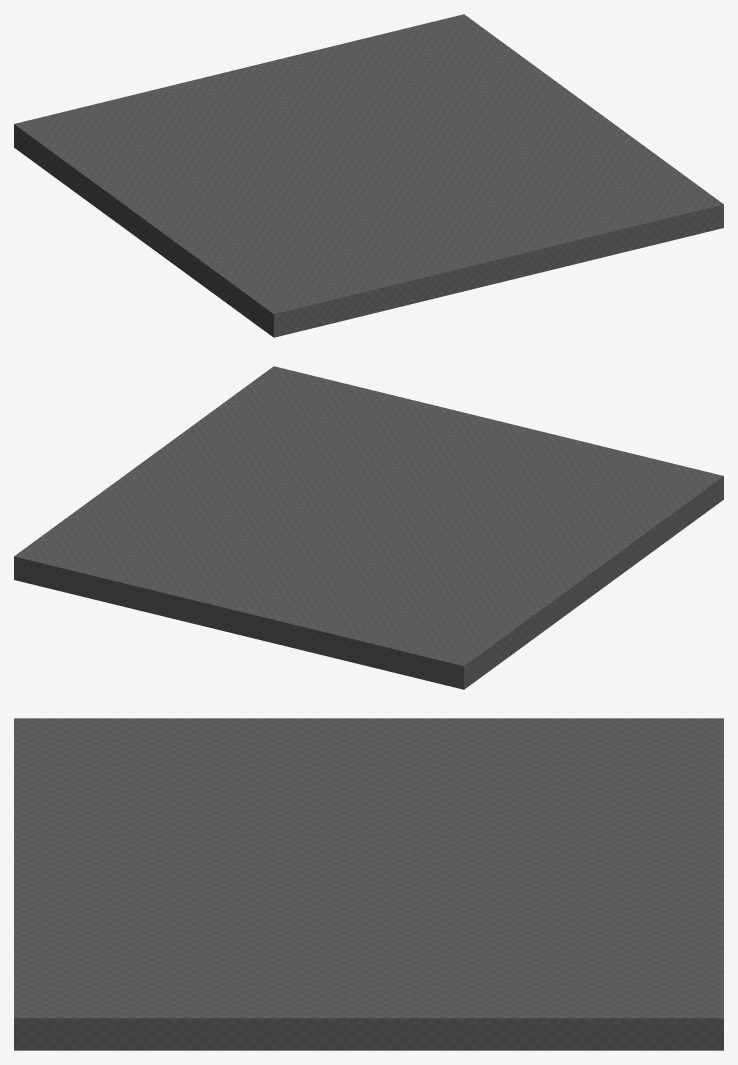
3 views of the same model, one above another, from view 1: azimuth 30°, elevation 25°; view 2: azimuth 150°, elevation 25°; view 3: azimuth 270°, elevation 25° (orthographic). The views are drawn at different scales.
Visible parts, largest first — view 1: Floor; view 2: Floor; view 3: Floor.
Part boxes in pixels (bbox=[...]): Floor: bbox=[14, 14, 723, 337]; Floor: bbox=[14, 366, 723, 689]; Floor: bbox=[14, 718, 723, 1050].
Bounding box in the file's own units: 1000 × 50 × 1000.
